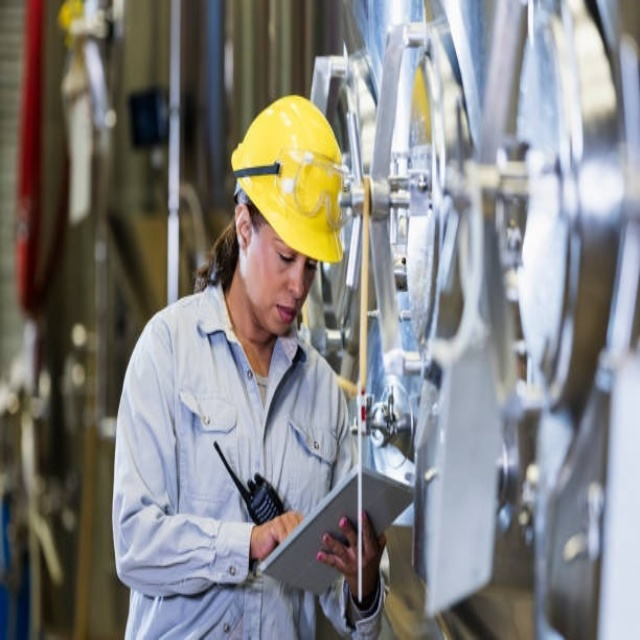Sin_gafas: (265, 235, 319, 282)
Sin_guantes: (318, 508, 386, 592), (253, 509, 305, 564)
Sin_mascara: (262, 297, 301, 332)
